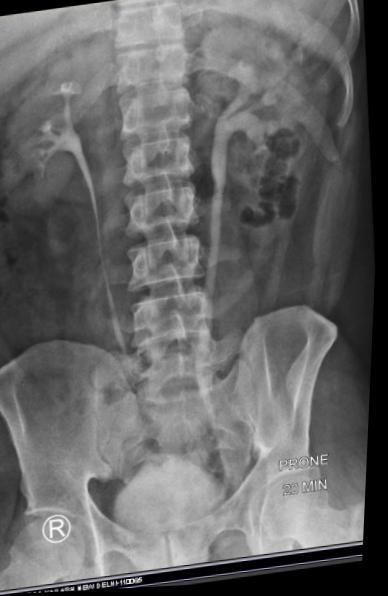bladder: (111, 447, 252, 545)
vertebrae: (120, 75, 195, 138)
